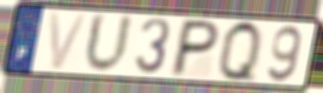3: (133, 16, 172, 76)
9: (266, 24, 303, 84)
P: (167, 17, 223, 79)
Q: (217, 18, 263, 86)
U: (81, 10, 135, 76)
V: (47, 10, 91, 71)
